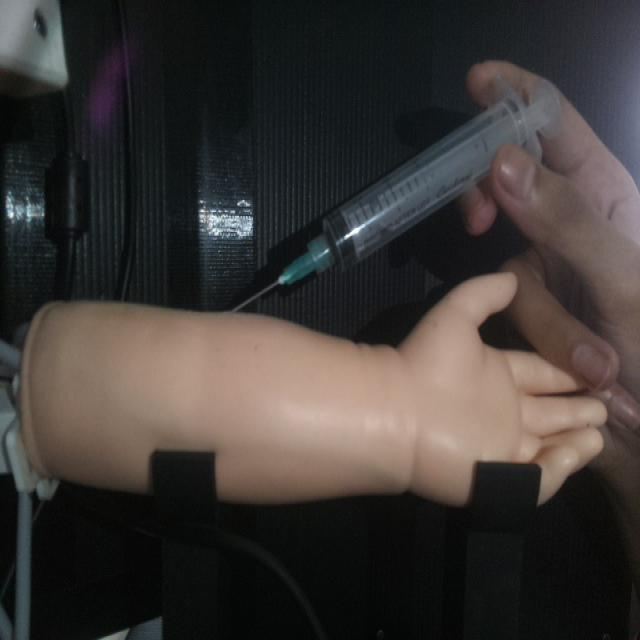Outside: (224, 70, 566, 319)
